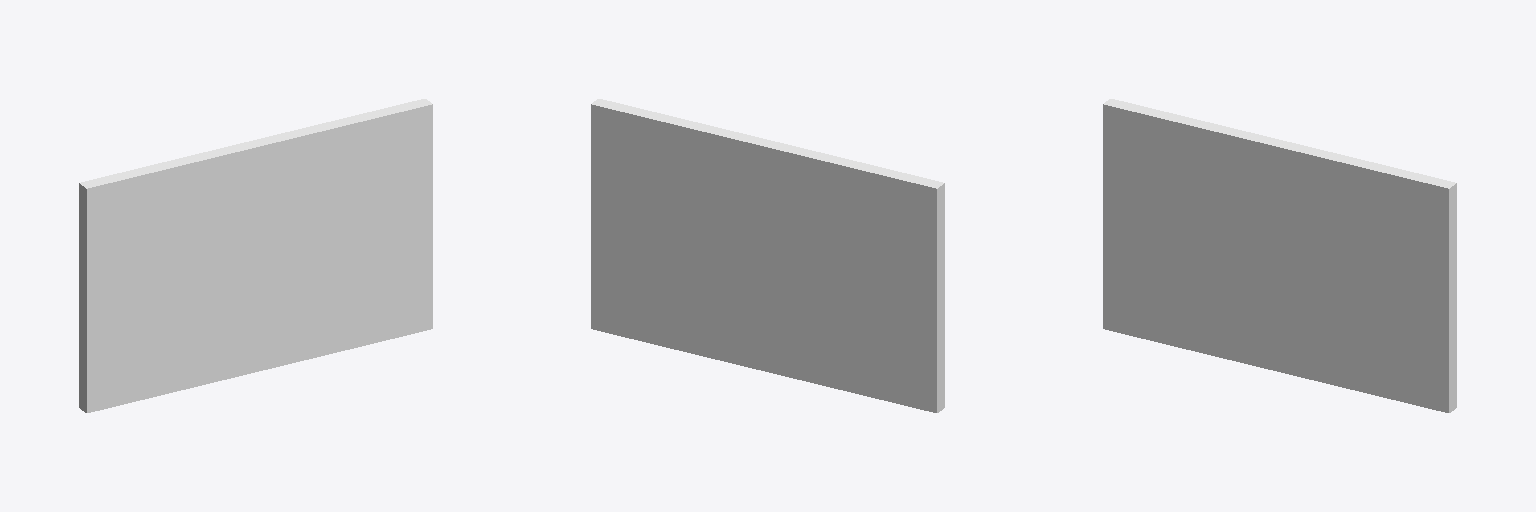
The model's file is Supermarket_Sign.obj.
3 renders of one model, left to right at view 1: azimuth 30°, elevation 25°; view 2: azimuth 150°, elevation 25°; view 3: azimuth 330°, elevation 25°, orthographic.
Parts seen in each view (by area): view 1: object 1; view 2: object 1; view 3: object 1.
Part boxes in pixels (bbox=[...]): object 1: bbox=[79, 99, 432, 412]; object 1: bbox=[591, 99, 944, 412]; object 1: bbox=[1103, 99, 1456, 412].
Size of the model in its own units: 5 by 3.1 by 0.2.